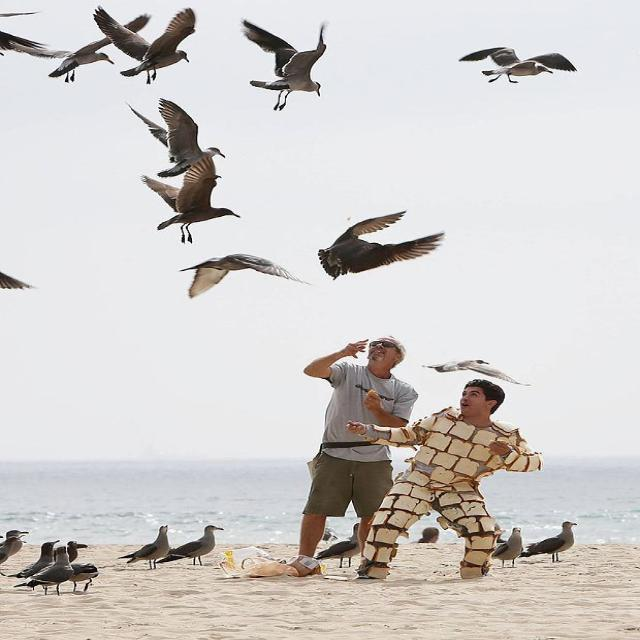bird: (314, 209, 442, 290), (138, 151, 245, 245), (88, 4, 199, 86), (239, 19, 329, 114), (127, 102, 230, 176), (178, 258, 311, 312), (457, 50, 582, 96), (418, 348, 532, 387), (122, 528, 180, 574), (39, 545, 92, 595), (172, 527, 223, 572), (528, 524, 580, 568), (489, 526, 526, 574), (1, 528, 30, 578)
